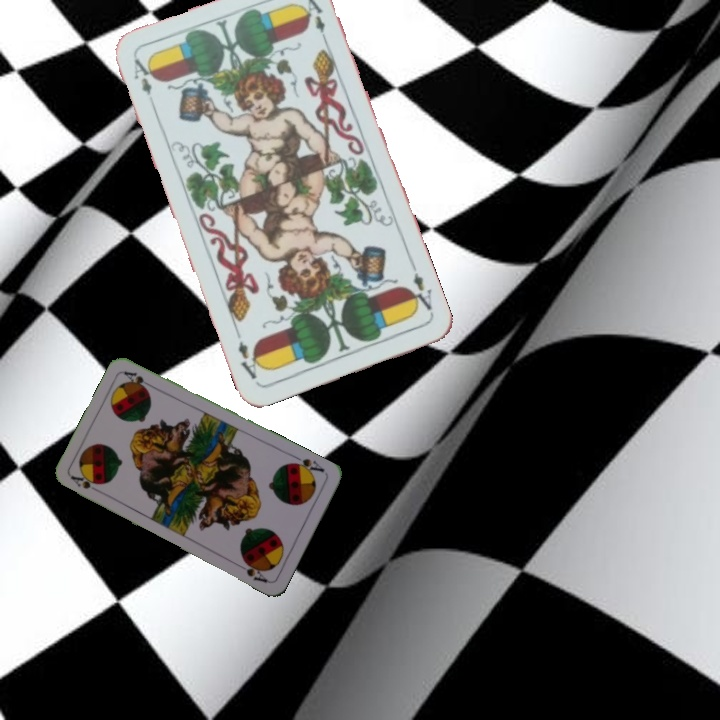EA: (404, 260, 435, 314), (129, 54, 158, 110)
SA: (287, 452, 327, 478), (67, 471, 100, 492)
